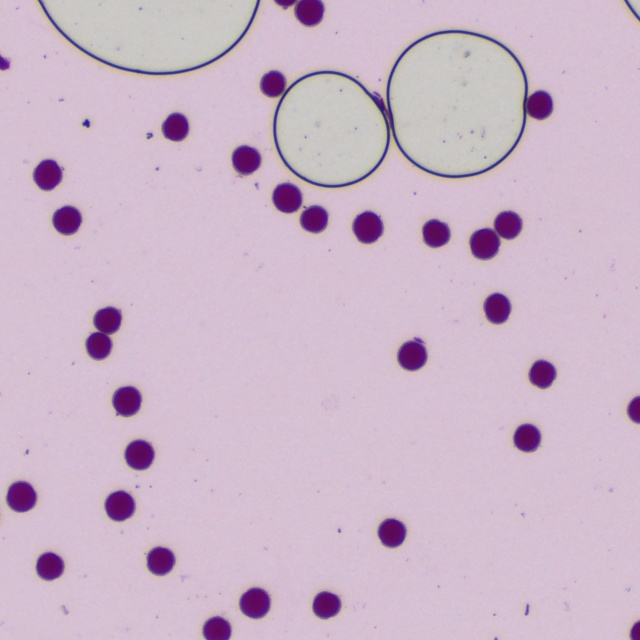viable: (87, 307, 121, 359), (241, 588, 270, 618), (106, 491, 135, 521), (354, 212, 382, 243), (398, 339, 426, 370), (7, 482, 36, 511), (471, 229, 499, 259), (34, 160, 61, 190), (273, 184, 301, 212), (126, 441, 154, 469), (113, 387, 141, 415), (233, 146, 260, 175), (54, 206, 81, 234), (313, 592, 340, 619), (379, 519, 405, 547), (148, 547, 174, 575), (485, 294, 510, 323), (37, 553, 63, 580), (301, 206, 327, 232), (424, 220, 449, 247), (163, 114, 188, 141), (515, 425, 540, 452), (530, 361, 555, 388), (496, 212, 521, 238), (528, 91, 552, 118), (296, 1, 323, 25), (261, 71, 285, 96), (204, 617, 230, 639), (628, 397, 639, 423)
